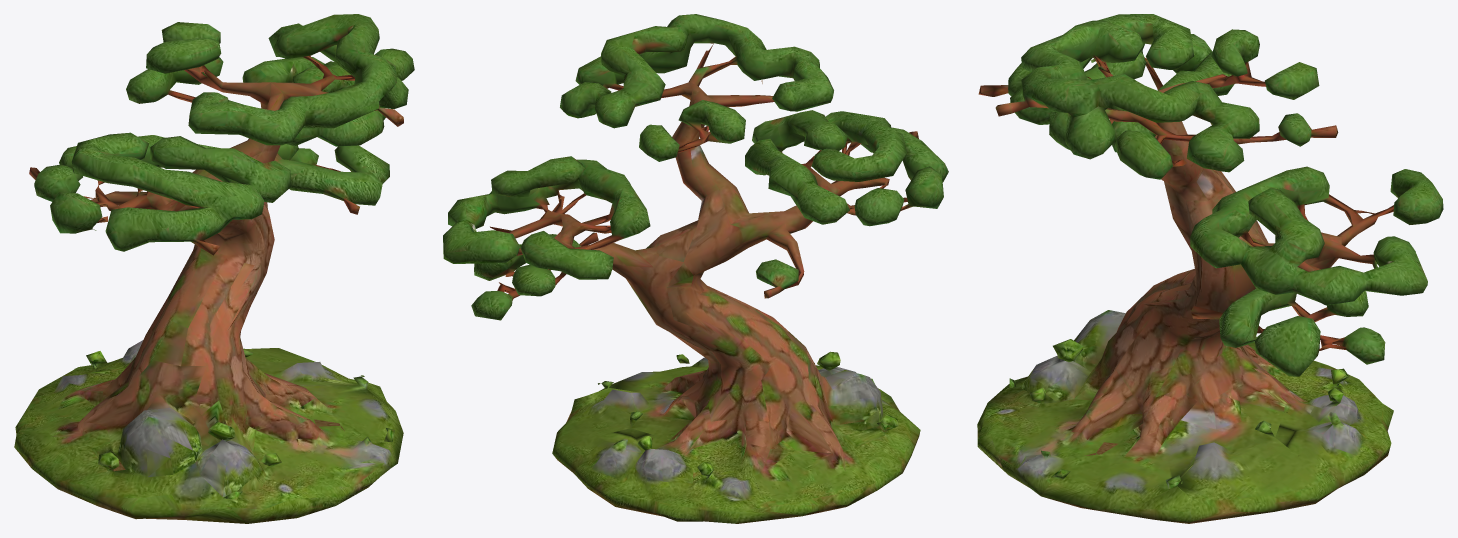
The picture shows the model from 3 angles, left to right: view 1: azimuth 30°, elevation 25°; view 2: azimuth 150°, elevation 25°; view 3: azimuth 270°, elevation 25°; orthographic projection. The views are drawn at different scales.
Parts seen in each view (by area): view 1: tree-pine-prized; view 2: tree-pine-prized; view 3: tree-pine-prized.
Boxes of the visible parts, x1,y1,x2,y2 form: tree-pine-prized: [14, 14, 414, 523]; tree-pine-prized: [443, 14, 948, 523]; tree-pine-prized: [977, 14, 1443, 523].
Size of the model in its own units: 4.96 by 4.5 by 4.53.
1 material, 1 textured.
